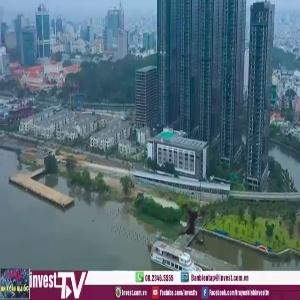drone: (146, 176, 247, 277)
